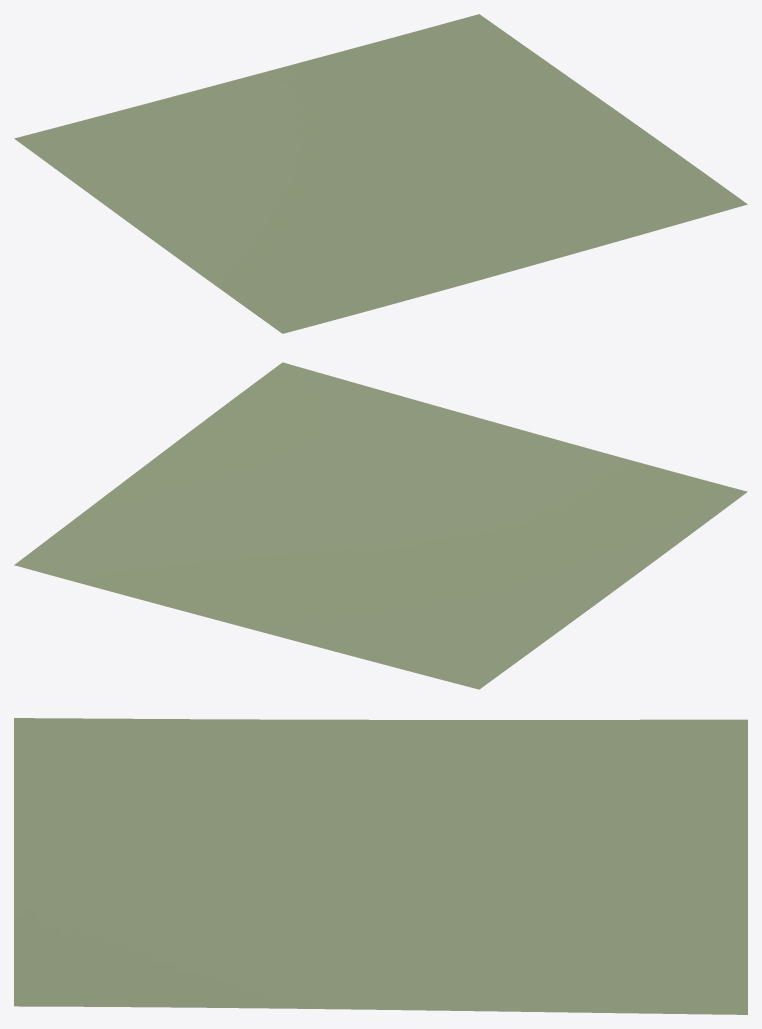
Rendered from desert-19-6.glb.
3 views of the same model, one above another, from view 1: azimuth 30°, elevation 25°; view 2: azimuth 150°, elevation 25°; view 3: azimuth 270°, elevation 25° (orthographic). The views are drawn at different scales.
Parts seen in each view (by area): view 1: desert-19-6; view 2: desert-19-6; view 3: desert-19-6.
Boxes of the visible parts, <box> form: desert-19-6: <box>14,14,747,333</box>; desert-19-6: <box>14,362,747,689</box>; desert-19-6: <box>14,718,747,1014</box>.
Bounding box in the file's own units: 512 × 18.21 × 512.
